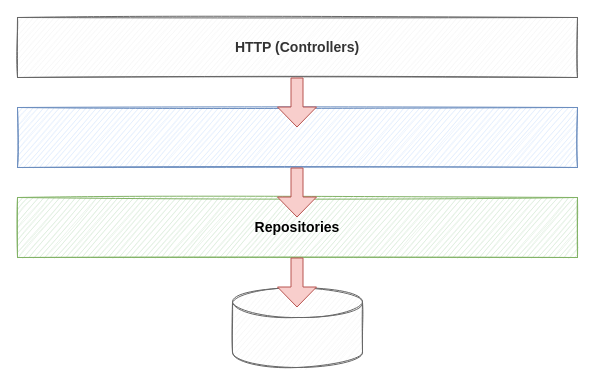
Some shapes in this 595 by 385 pixel diagram are drawn without their labels. The centre of each missing label's shape, as x and y in pixels:
"Postgres DB" goes at (297,327).
"Usecases" goes at (297,137).
